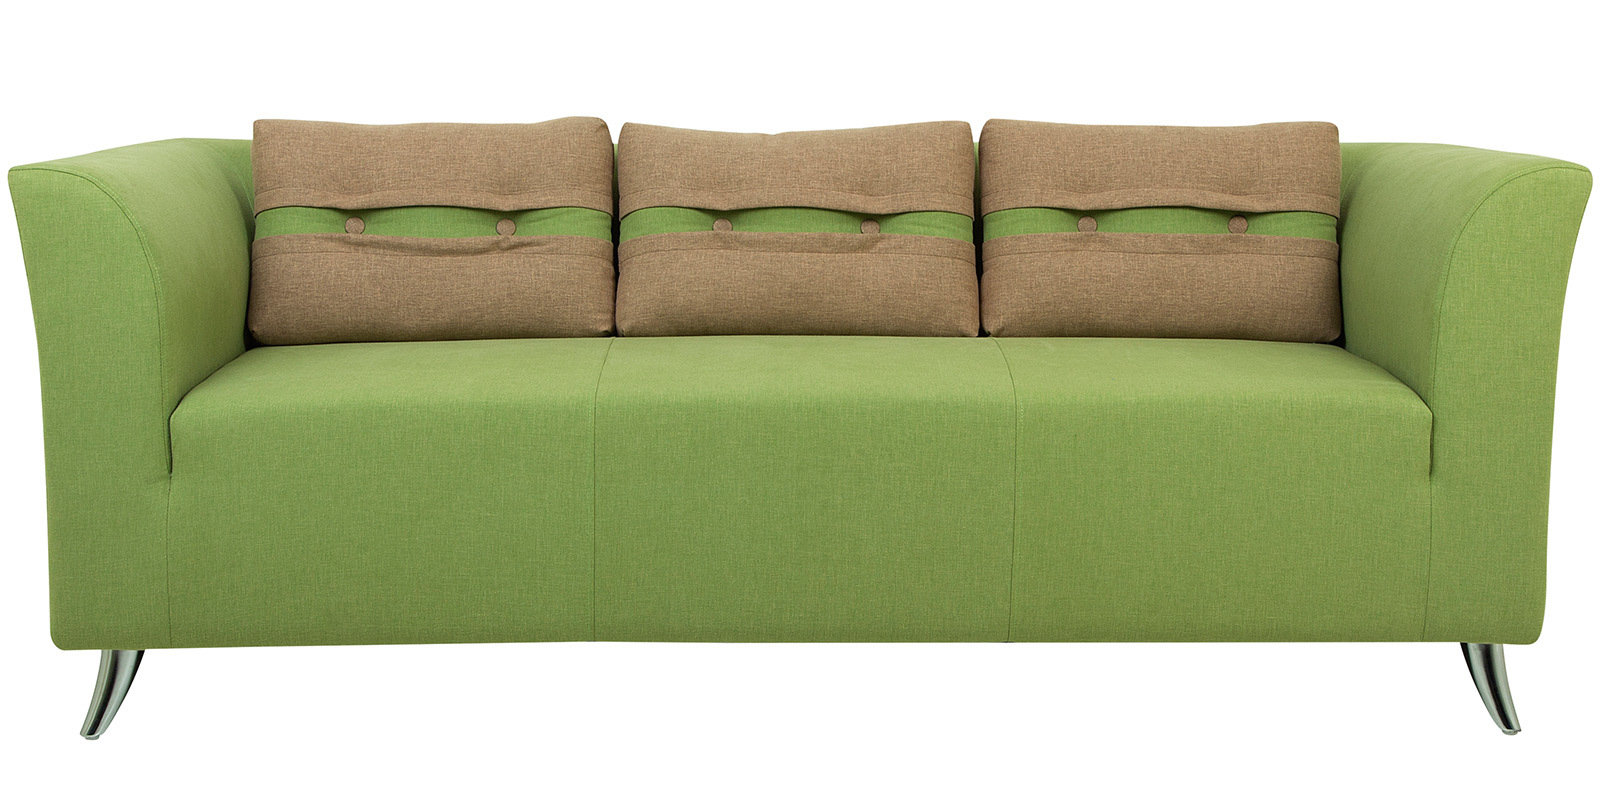Iowa Three Seater Sofa in Pear Green Colour by Furnitech: (10, 92, 1599, 776)
